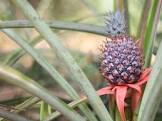Pineapple: (99, 10, 145, 88)
